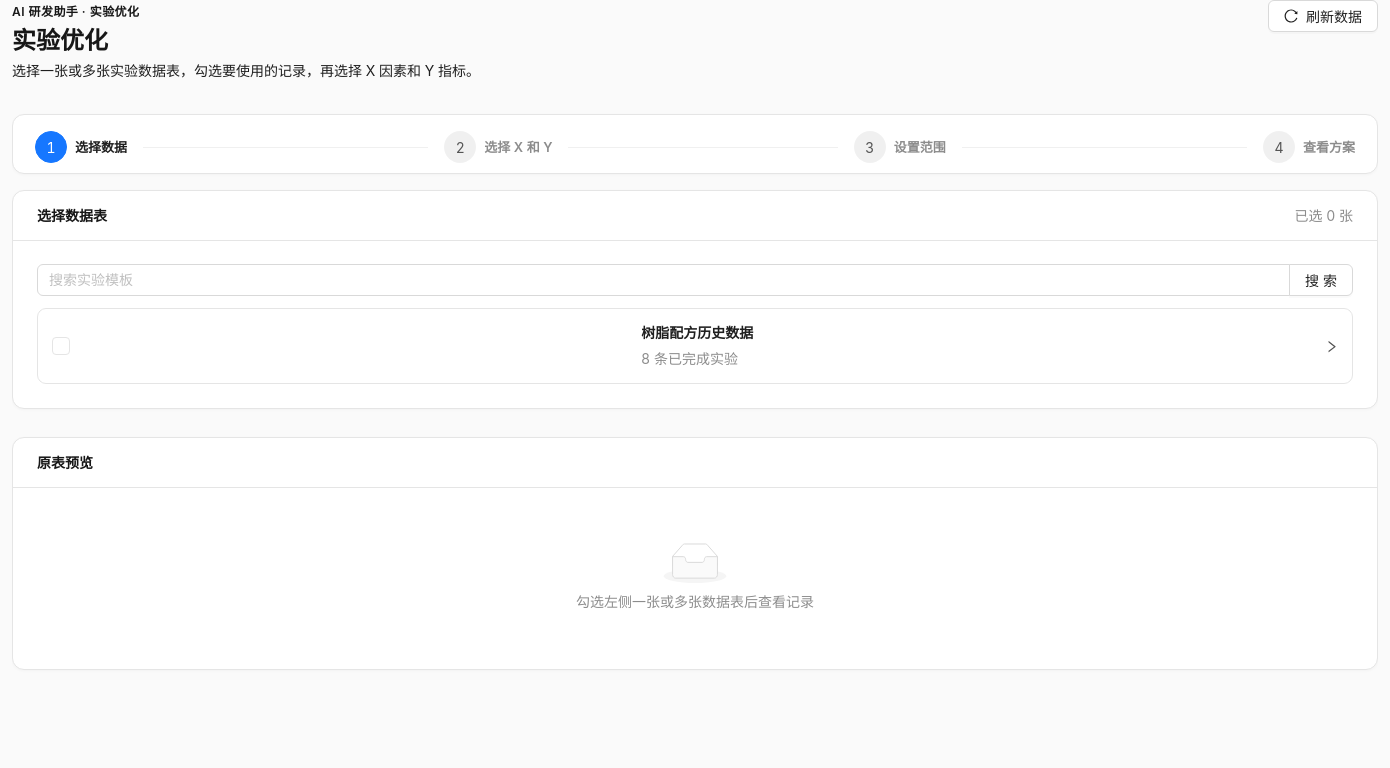
Test: HistoricalOptimizationWorkbench › requires all material proportions when optimizing a formula
Click the text "树脂配方历史数据".
click(697, 333)  # box [641,324,753,341]
(page scrolled)
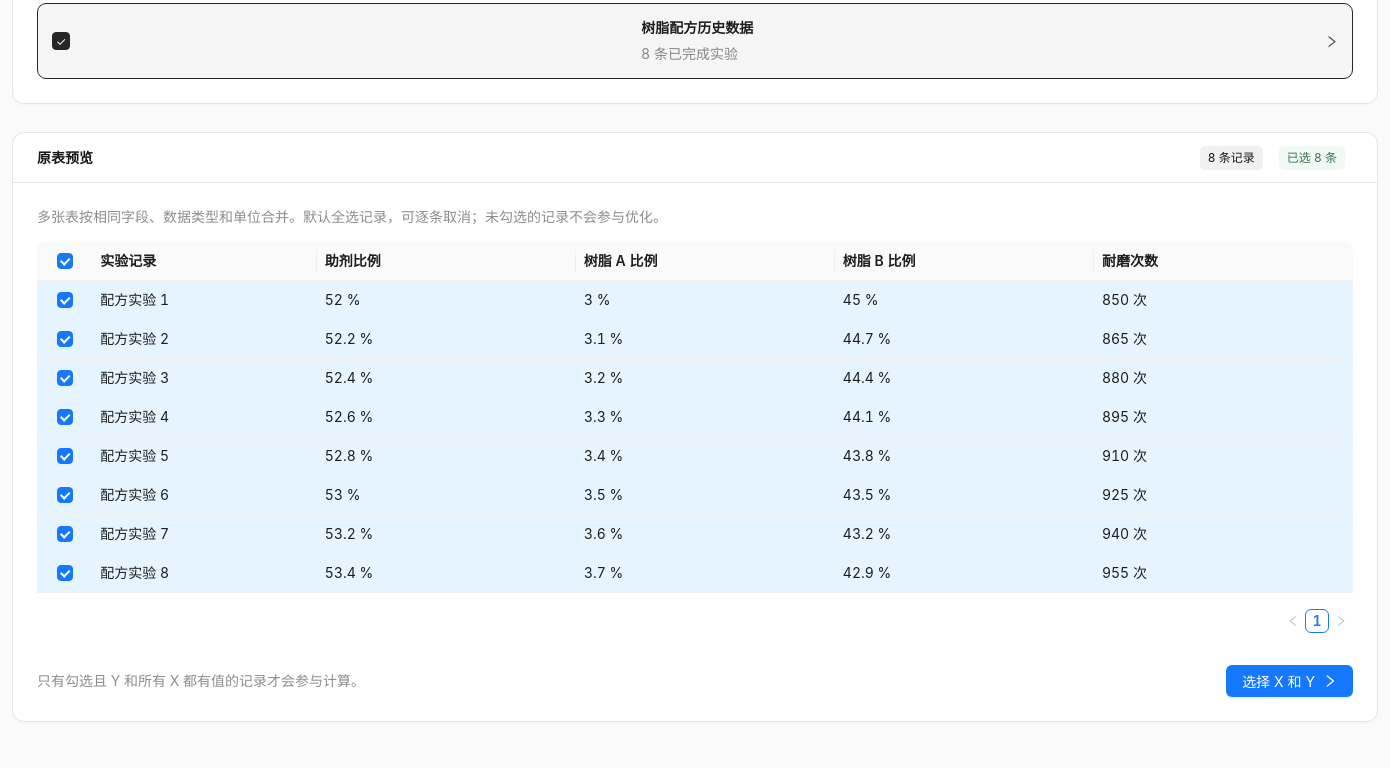
Result: the button "选择 X 和 Y" is enabled
Click the button "选择 X 和 Y".
click(1290, 681)  # box [1226,665,1353,697]
(page scrolled)
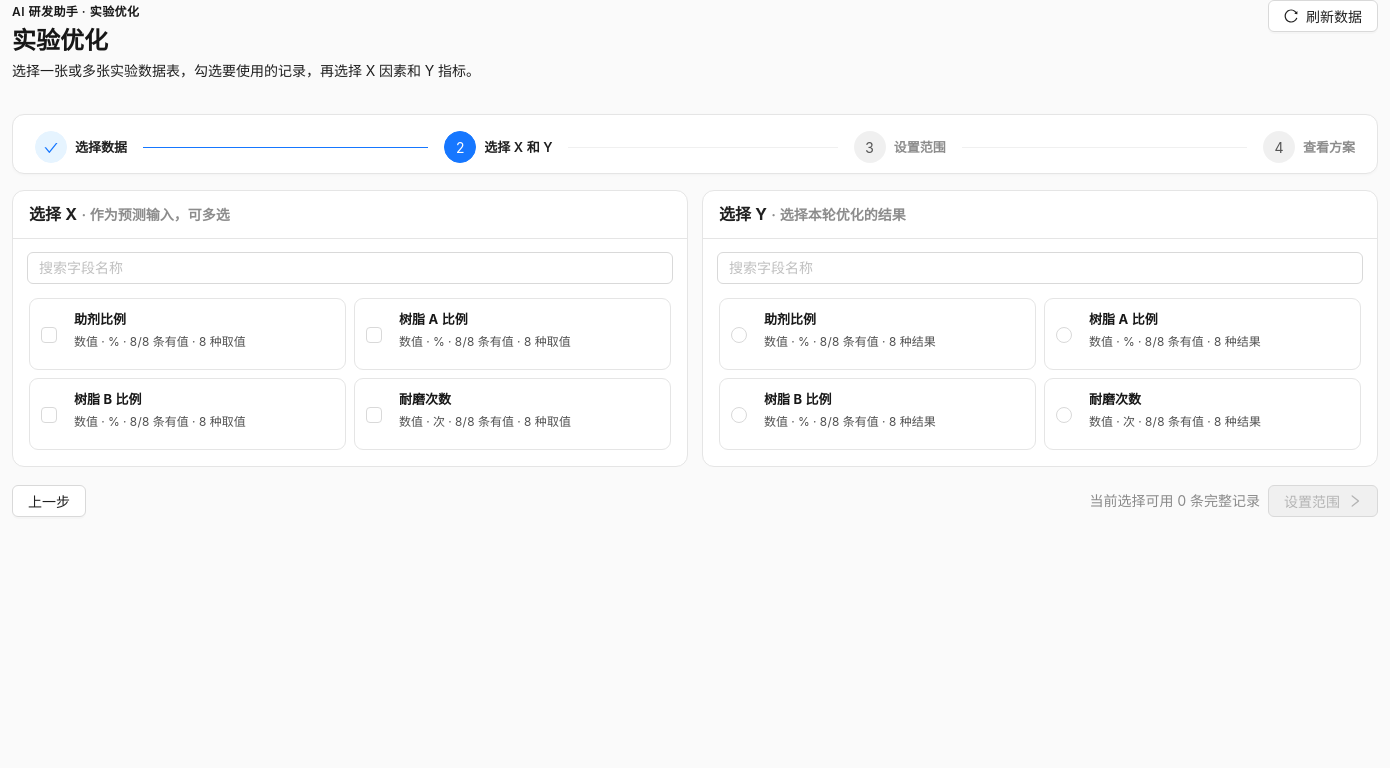
Click the checkbox labelled "助剂比例".
click(188, 334)  # box [29,298,346,370]
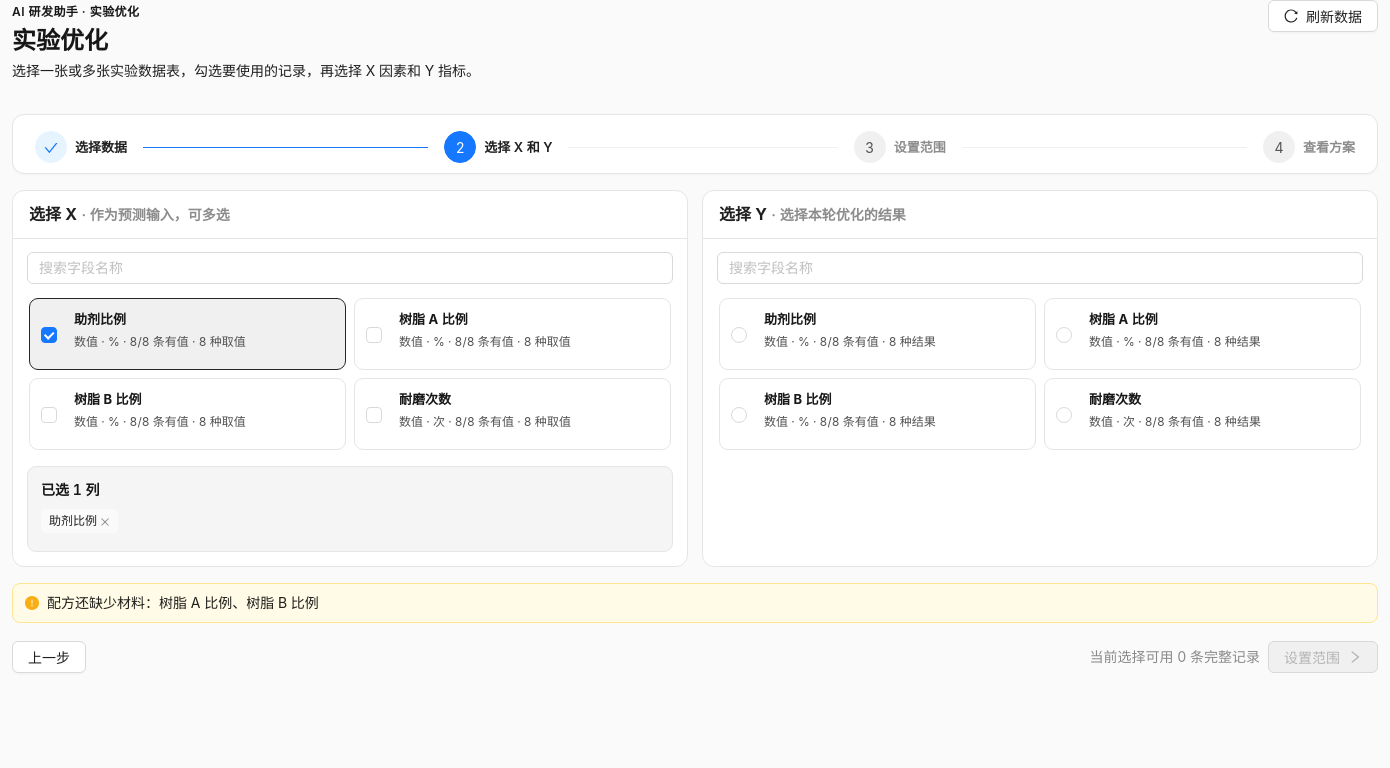
Click the radio button labelled "耐磨次数".
click(1202, 414)  # box [1044,378,1361,450]
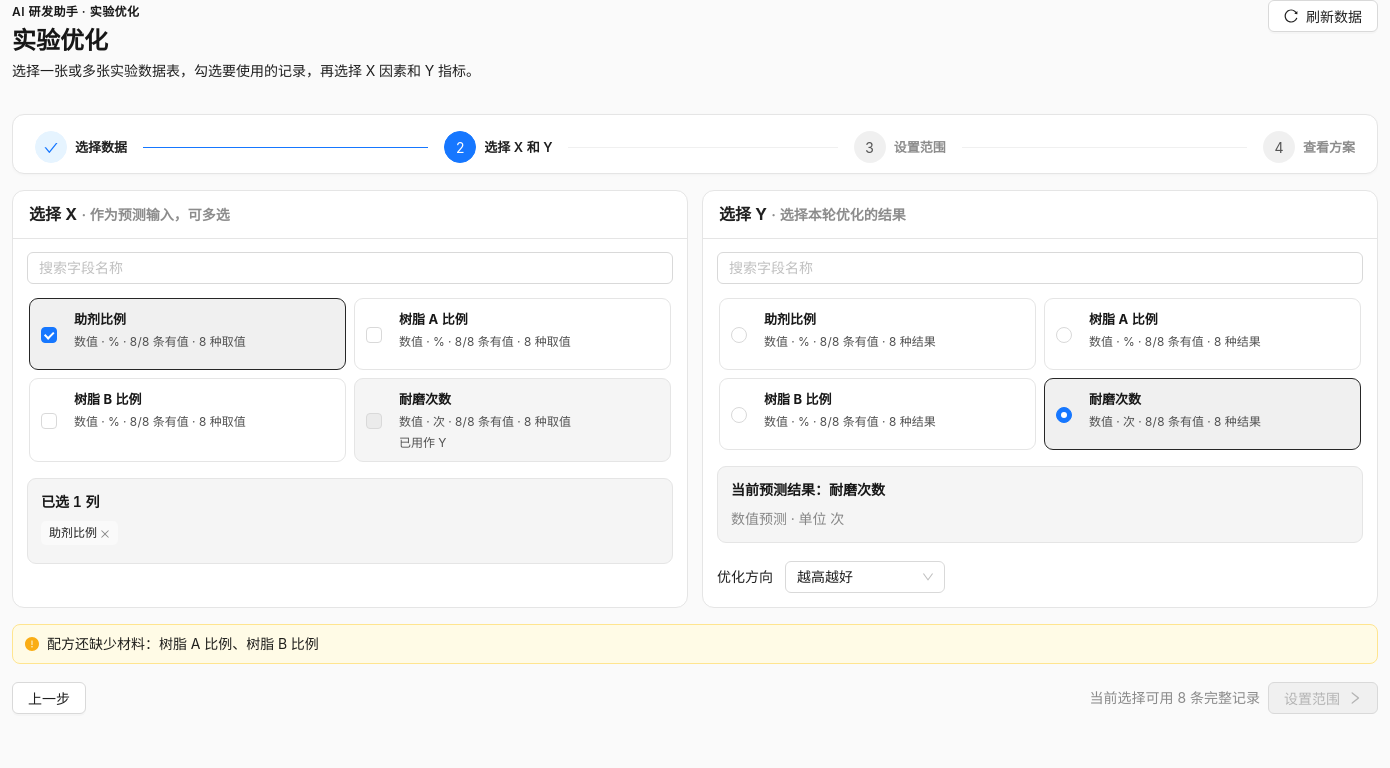
Result: the text "配方还缺少材料：树脂 A 比例、树脂 B 比例" is shown at [47,635,319,652]
Result: the button "设置范围" is disabled at [1268,682,1378,714]
Click the checkbox labelled "树脂 A 比例".
click(512, 334)  # box [354,298,671,370]
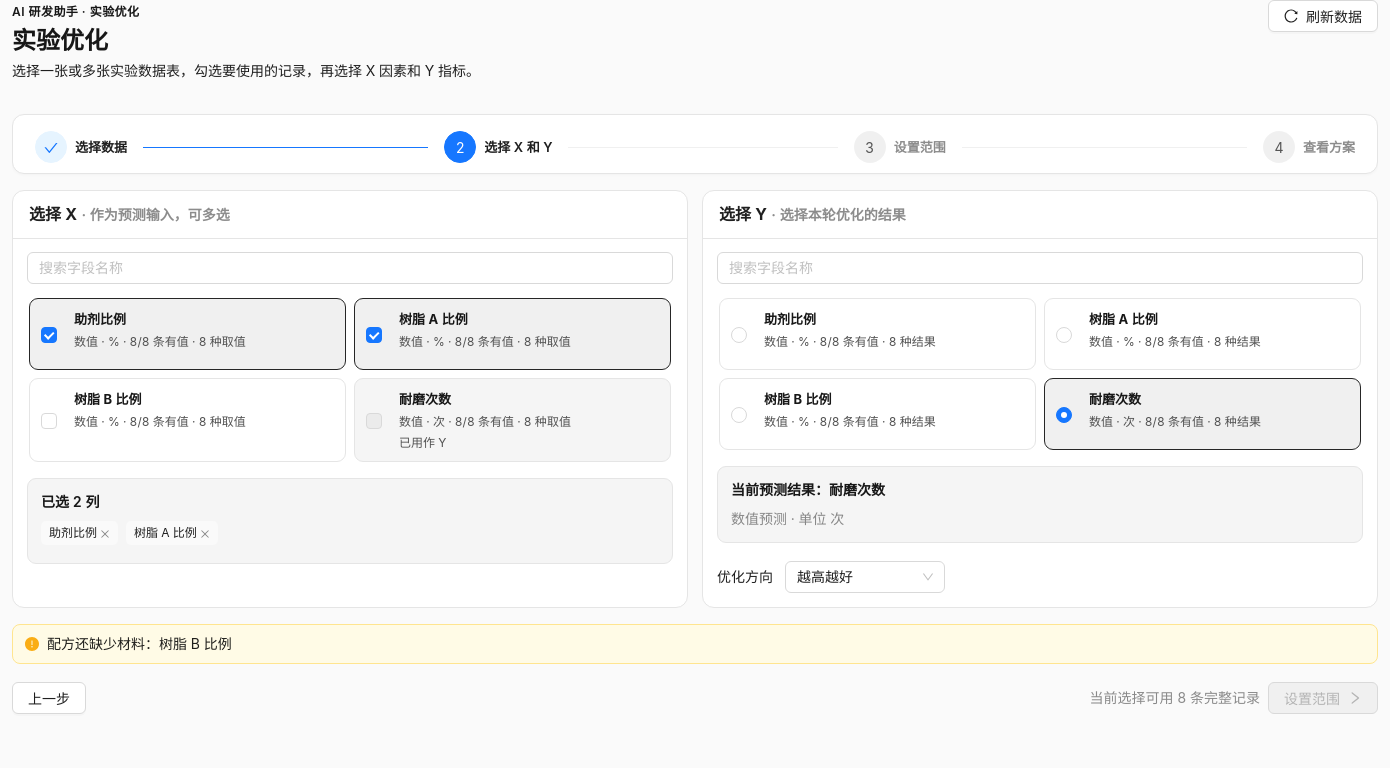
Click the checkbox labelled "树脂 B 比例".
click(188, 420)  # box [29,378,346,462]
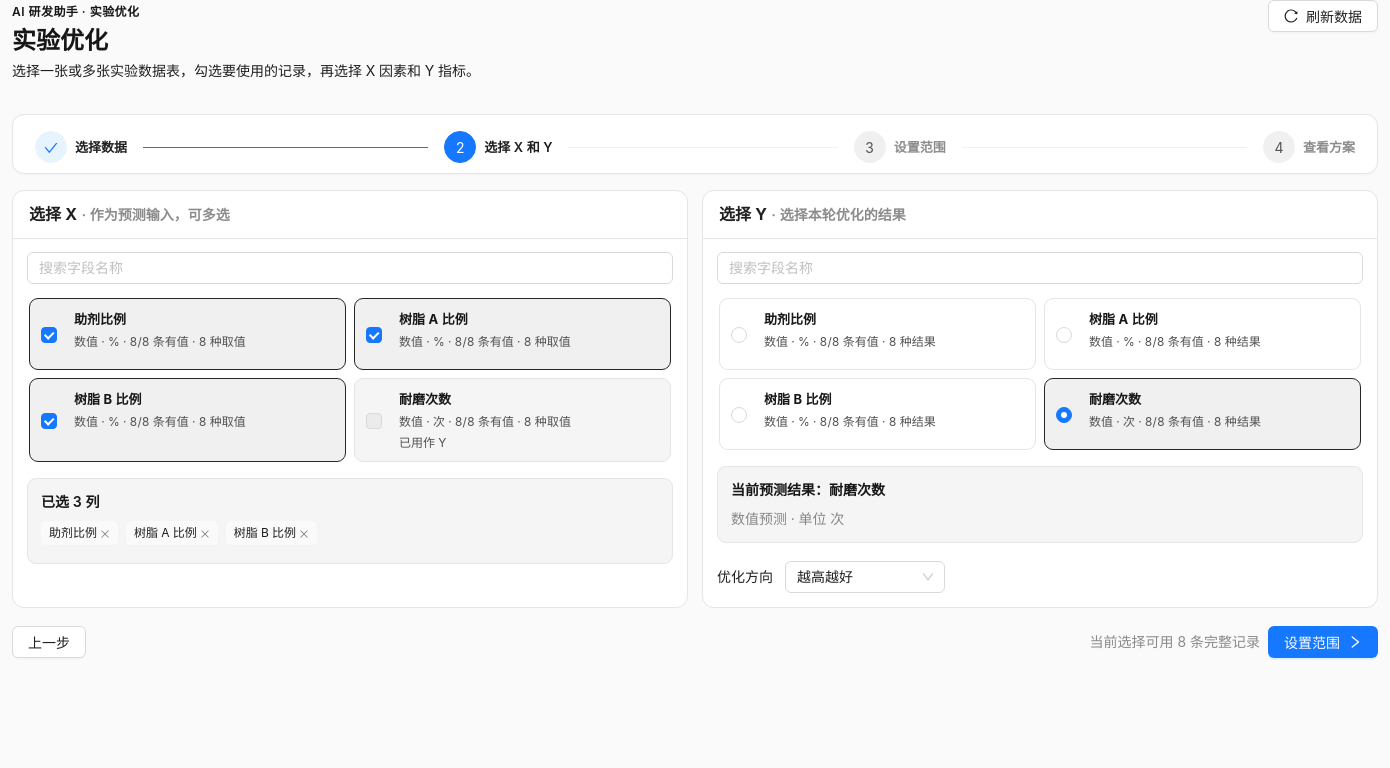
Result: the button "设置范围" is enabled at [1268,626,1378,658]
